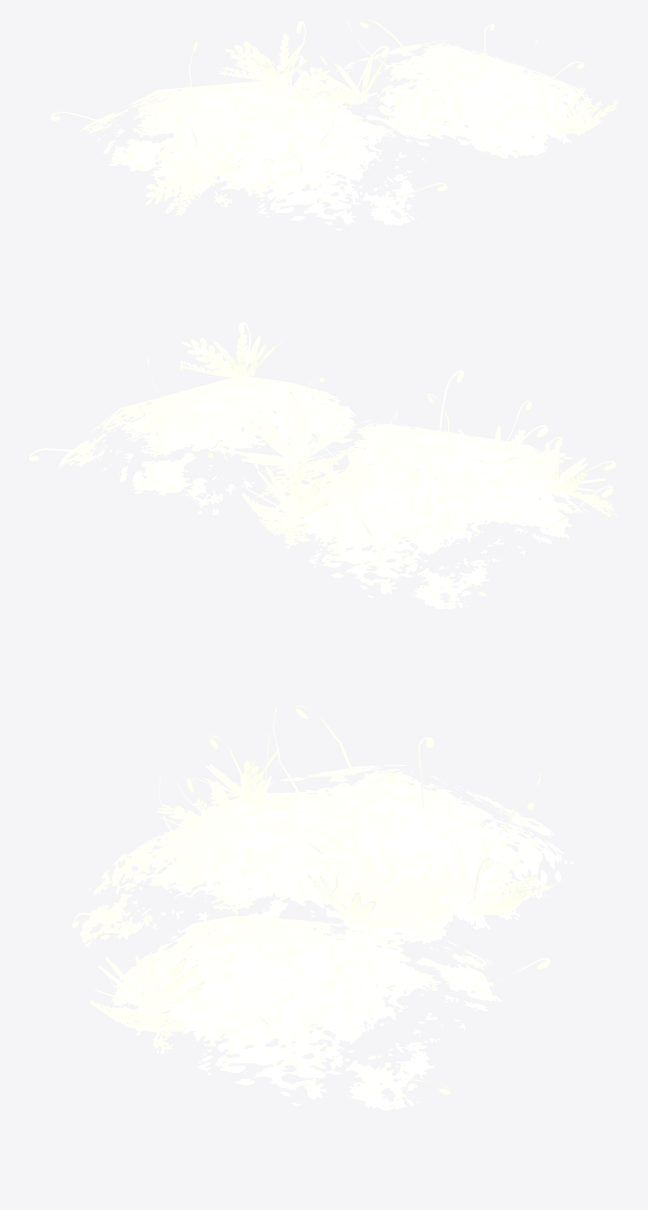
3 renders of one model, top to bottom at view 1: azimuth 30°, elevation 25°; view 2: azimuth 150°, elevation 25°; view 3: azimuth 270°, elevation 25°, orthographic. The views are drawn at different scales.
Parts seen in each view (by area): view 1: SM_BM_Moss_03_LOD0; view 2: SM_BM_Moss_03_LOD0; view 3: SM_BM_Moss_03_LOD0.
Part boxes in pixels (box(x1,y1,x2,y2)): SM_BM_Moss_03_LOD0: box(50, 19, 617, 230); SM_BM_Moss_03_LOD0: box(29, 322, 618, 609); SM_BM_Moss_03_LOD0: box(72, 705, 573, 1110).
Bounding box in the file's own units: 0.2439 × 0.0611 × 0.1667.
Materials: 1 (1 with a texture image).
